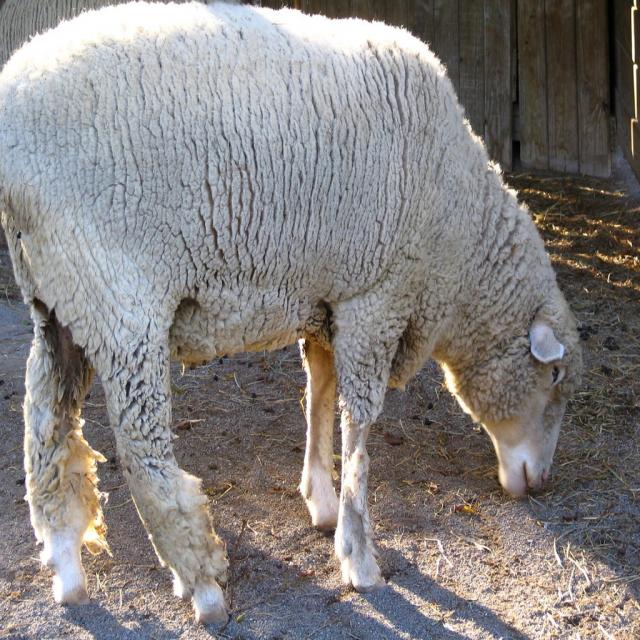Sheep: (0, 0, 584, 624)
